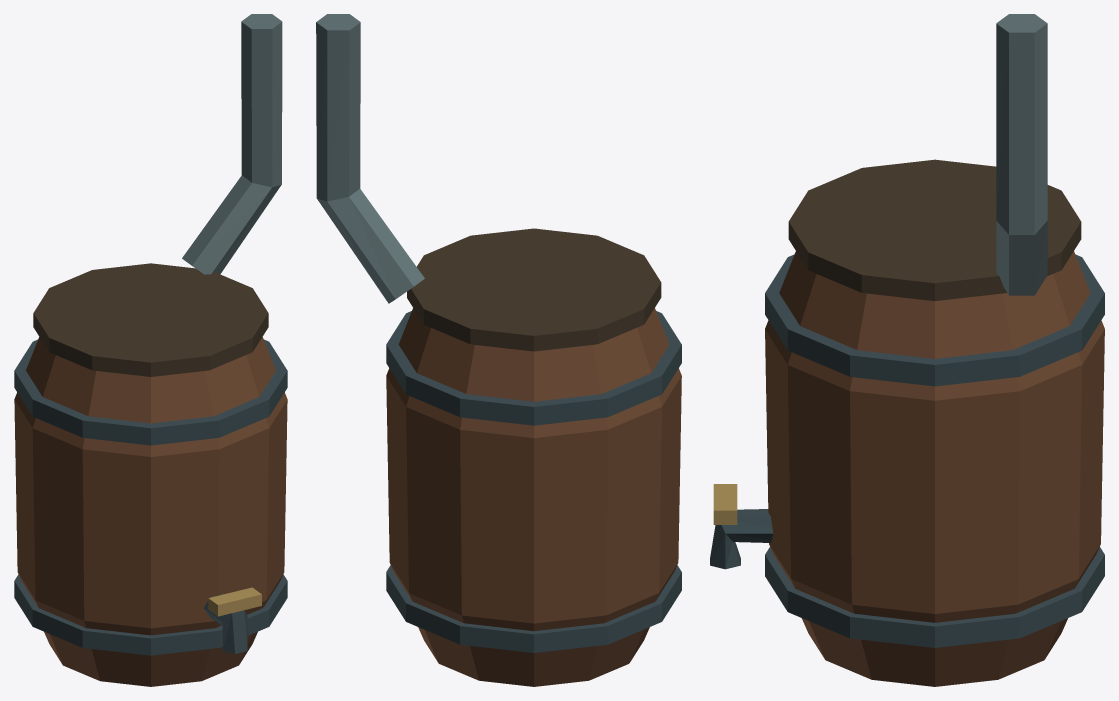
File: Prop_Daily_RainBarrel_001_LOD1.glb
3 renders of one model, left to right at view 1: azimuth 30°, elevation 25°; view 2: azimuth 150°, elevation 25°; view 3: azimuth 270°, elevation 25°, orthographic. The views are drawn at different scales.
Visible parts, largest first — view 1: Prop_Daily_RainBarrel_001_LOD1; view 2: Prop_Daily_RainBarrel_001_LOD1; view 3: Prop_Daily_RainBarrel_001_LOD1.
Boxes of the visible parts, x1,y1,x2,y2 form: Prop_Daily_RainBarrel_001_LOD1: [14, 14, 287, 686]; Prop_Daily_RainBarrel_001_LOD1: [316, 14, 681, 686]; Prop_Daily_RainBarrel_001_LOD1: [710, 14, 1104, 686].
Bounding box in the file's own units: 1.02 × 1.95 × 0.999.
